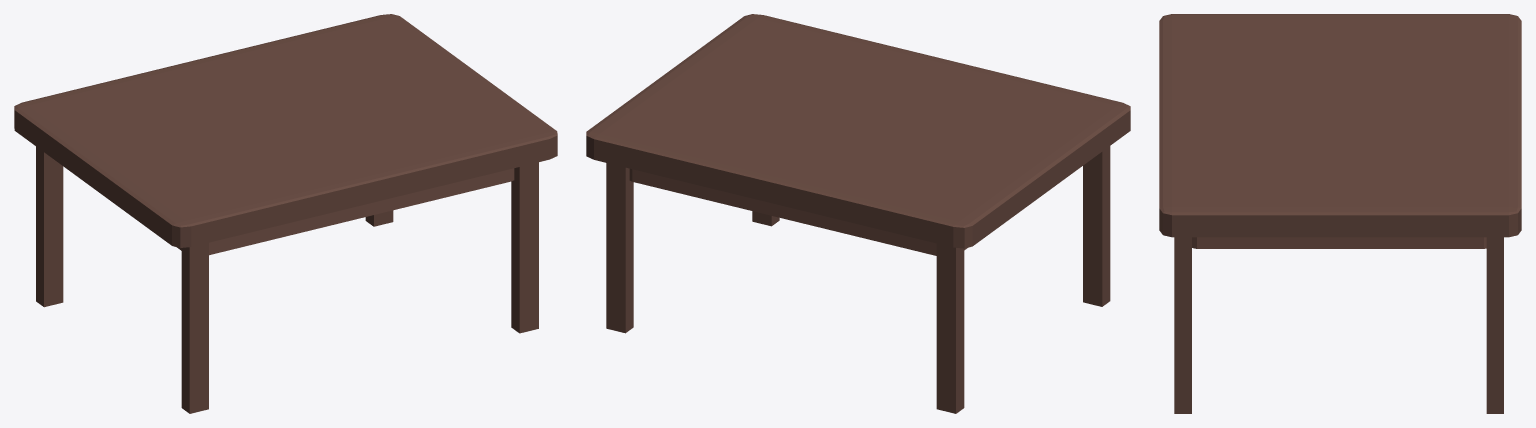
The model's file is basic_table.fbx.
3 renders of one model, left to right at view 1: azimuth 30°, elevation 25°; view 2: azimuth 150°, elevation 25°; view 3: azimuth 270°, elevation 25°, orthographic. The views are drawn at different scales.
Visible parts, largest first — view 1: Basic_Table, Cube.004, Cube.003, Cube.002; view 2: Basic_Table, Cube.002, Cube.001, Cube.004; view 3: Basic_Table, Cube.001, Cube.003.
Boxes of the visible parts, box(x1,y1,x2,y2) form: Basic_Table: box(14, 14, 557, 255); Cube.004: box(181, 243, 208, 413); Cube.003: box(511, 162, 538, 333); Cube.002: box(36, 146, 63, 307); Basic_Table: box(586, 14, 1130, 255); Cube.002: box(936, 243, 964, 413); Cube.001: box(606, 163, 633, 333); Cube.004: box(1083, 146, 1110, 306); Basic_Table: box(1159, 14, 1521, 248); Cube.001: box(1486, 237, 1503, 413); Cube.003: box(1174, 237, 1191, 413).
Size of the model in its own units: 1.23 by 0.5954 by 0.9352.
